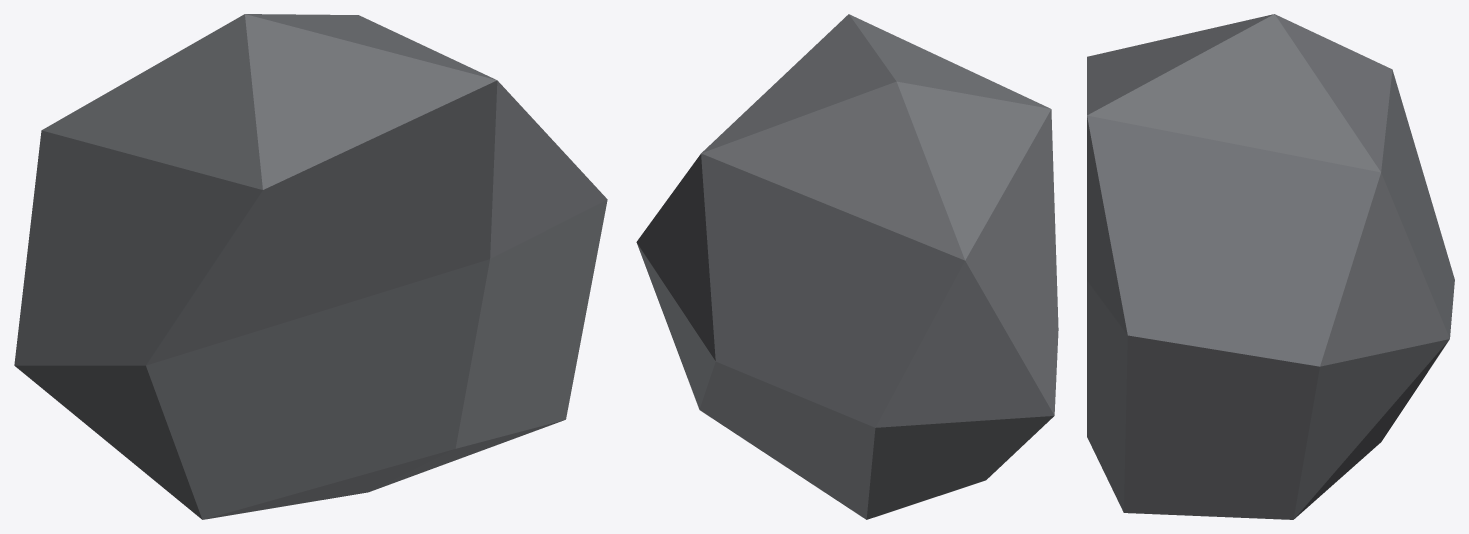
Rendered from Rock_3.fbx.
3 views of the same model, side by side, from view 1: azimuth 30°, elevation 25°; view 2: azimuth 150°, elevation 25°; view 3: azimuth 270°, elevation 25° (orthographic). The views are drawn at different scales.
Parts seen in each view (by area): view 1: Rock_3; view 2: Rock_3; view 3: Rock_3.
Part boxes in pixels (left/top/right/bottom): Rock_3: left=14, top=14, right=607, bottom=519; Rock_3: left=636, top=14, right=1058, bottom=519; Rock_3: left=1087, top=14, right=1454, bottom=519.
Bounding box in the file's own units: 209 × 192 × 142.
